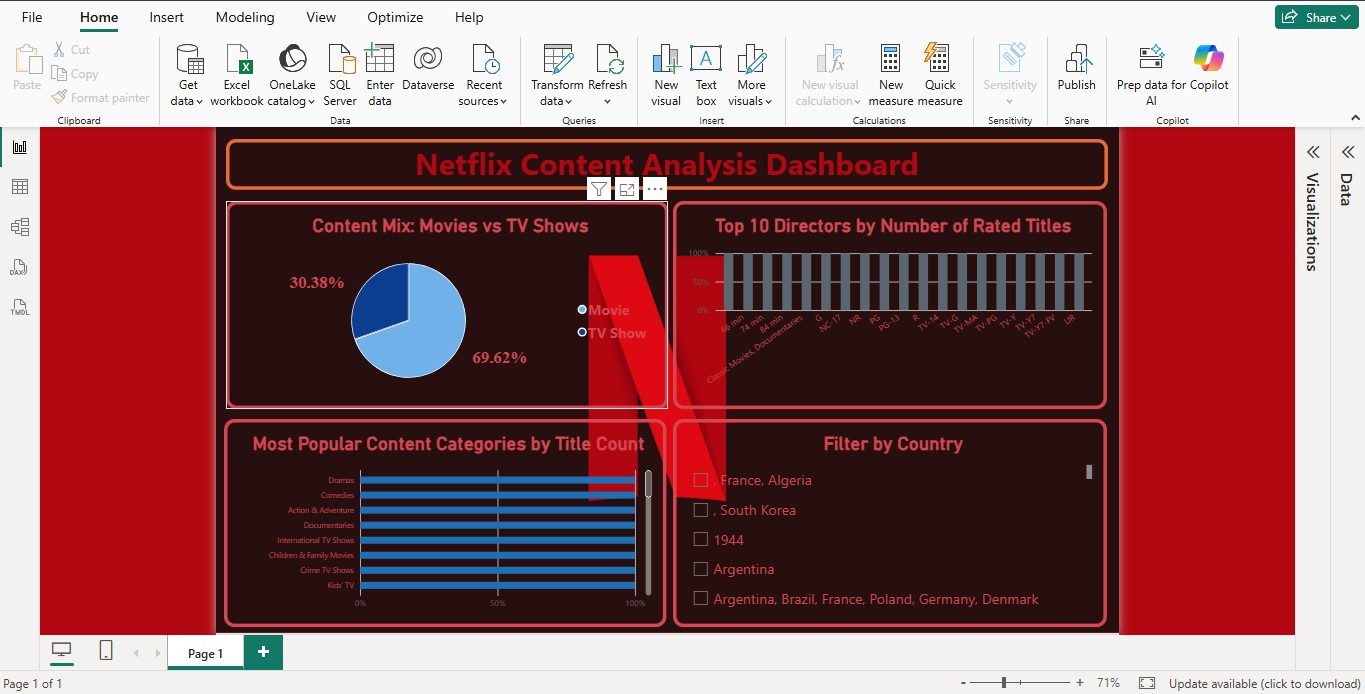

This screenshot's page, from the dashboard's own definition file:
{"tool":"powerbi","page":{"name":"Page 1","canvas":[1280,720],"ordinal":0},"visuals":[{"type":"textbox","box":[13.5,16.8,1249.7,72.4],"z":0},{"type":"pieChart","title":"Content Mix: Movies vs TV Shows","fields":{"Category":["netflix_titles.type"],"Y":["CountNonNull(netflix_titles.show_id)"]},"box":[13.5,104.4,626.5,294.7],"z":1000},{"type":"hundredPercentStackedBarChart","title":"Most Popular Content Categories by Title Count","fields":{"Category":["netflix_titles.primary_category"],"Y":["CountNonNull(netflix_titles.show_id)"]},"box":[11.7,413.3,626.7,295],"z":2000},{"type":"hundredPercentStackedColumnChart","title":"Top 10 Directors by Number of Rated Titles","fields":{"Category":["netflix_titles.rating"],"Y":["CountNonNull(netflix_titles.director)"]},"box":[648.4,104.4,614.7,294.7],"z":3000},{"type":"slicer","title":"Filter by Country","fields":{"Values":["netflix_titles.country"]},"box":[648.3,413.3,615,295],"z":4000}]}

Visuals, with their boxes on the page's 1280x720 design canvas (x1, y1, x2, y2). These are canvas units, not pixel positions in the 1365x694 screenshot, which may show the page scaled, cropped or inside an application window:
textbox: BBox(14, 17, 1263, 89)
"Content Mix: Movies vs TV Shows" pieChart: BBox(14, 104, 640, 399)
"Most Popular Content Categories by Title Count" hundredPercentStackedBarChart: BBox(12, 413, 638, 708)
"Top 10 Directors by Number of Rated Titles" hundredPercentStackedColumnChart: BBox(648, 104, 1263, 399)
"Filter by Country" slicer: BBox(648, 413, 1263, 708)
